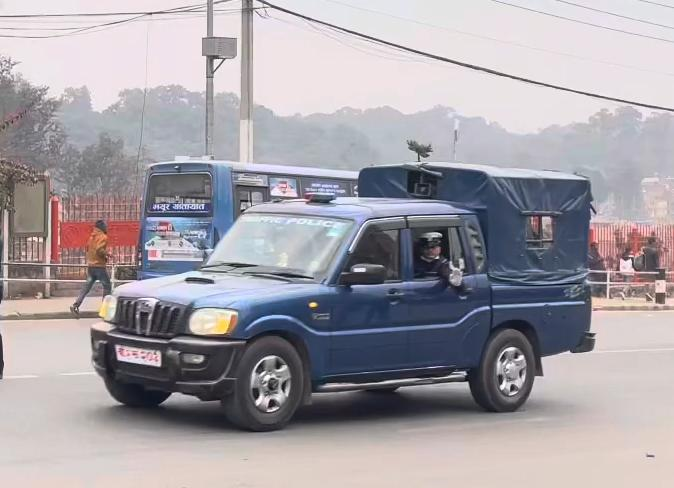police_vehicle: (83, 155, 598, 438)
